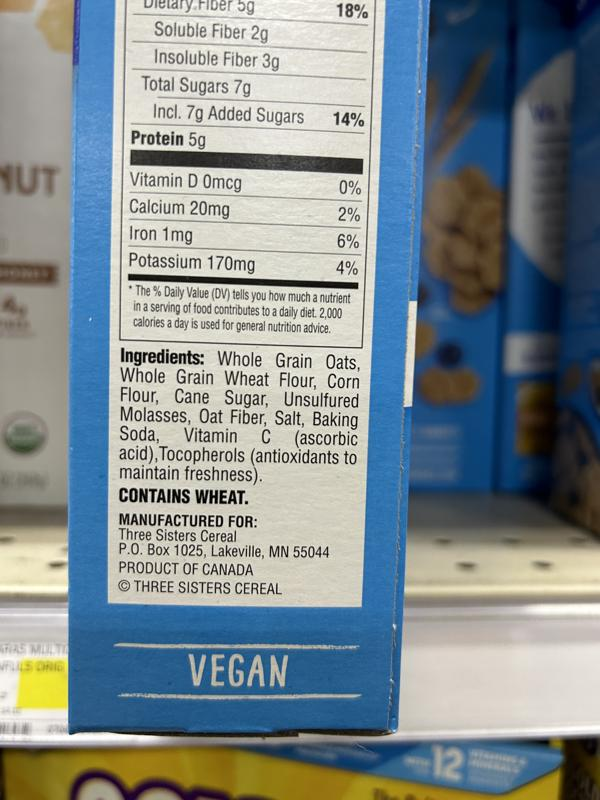ingredients: (117, 345, 360, 484)
